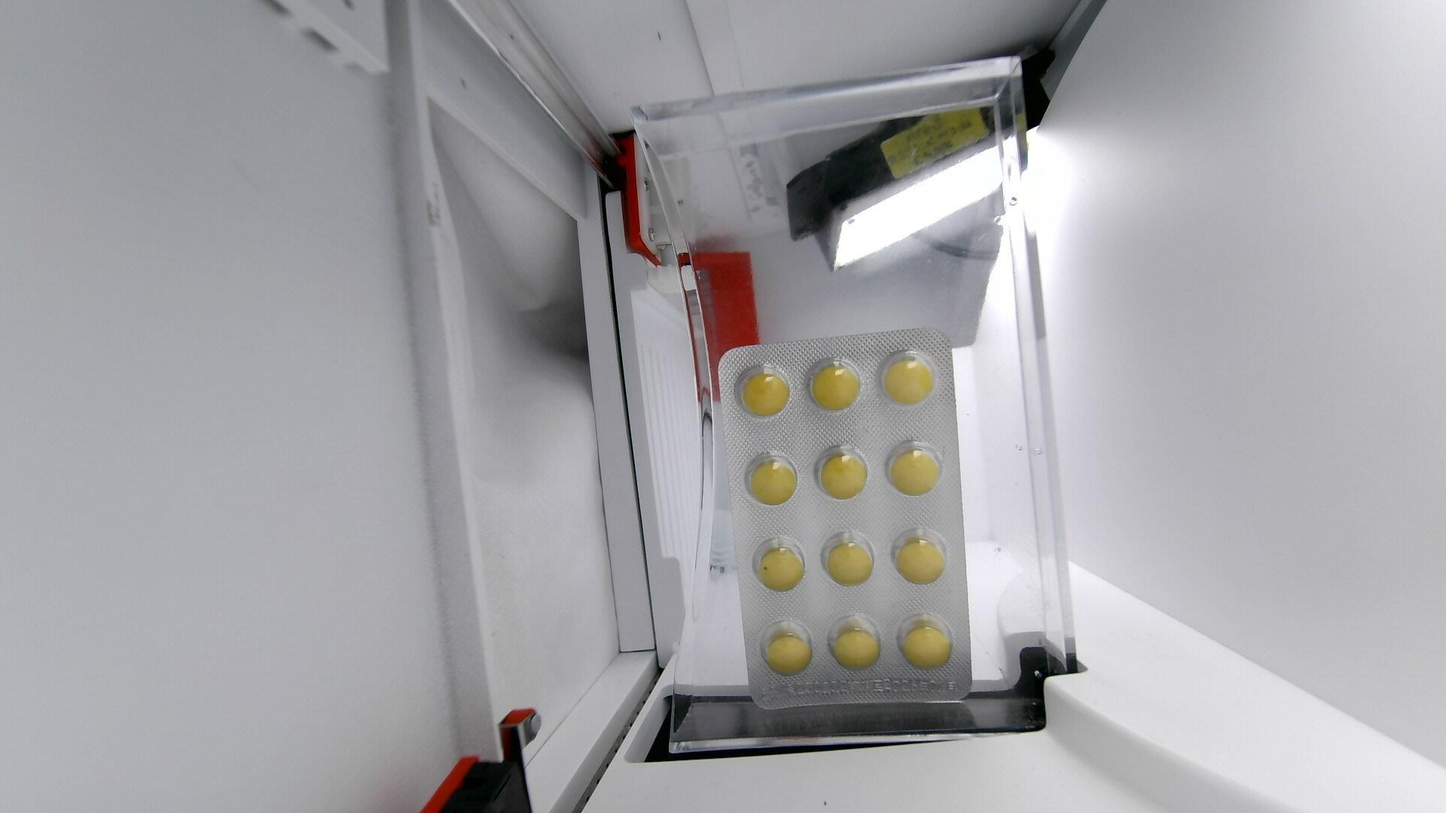Light Front: (722, 331, 971, 707)
Pill Front: (893, 528, 946, 584), (753, 537, 805, 592), (761, 620, 813, 675), (822, 532, 873, 586), (828, 616, 880, 668), (901, 616, 952, 668), (747, 455, 797, 505), (889, 446, 940, 495), (737, 367, 789, 415), (810, 362, 859, 410), (884, 355, 932, 404), (819, 452, 867, 498)
